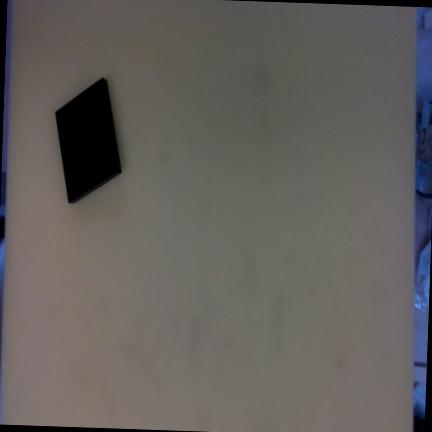tile: (50, 78, 121, 204)
